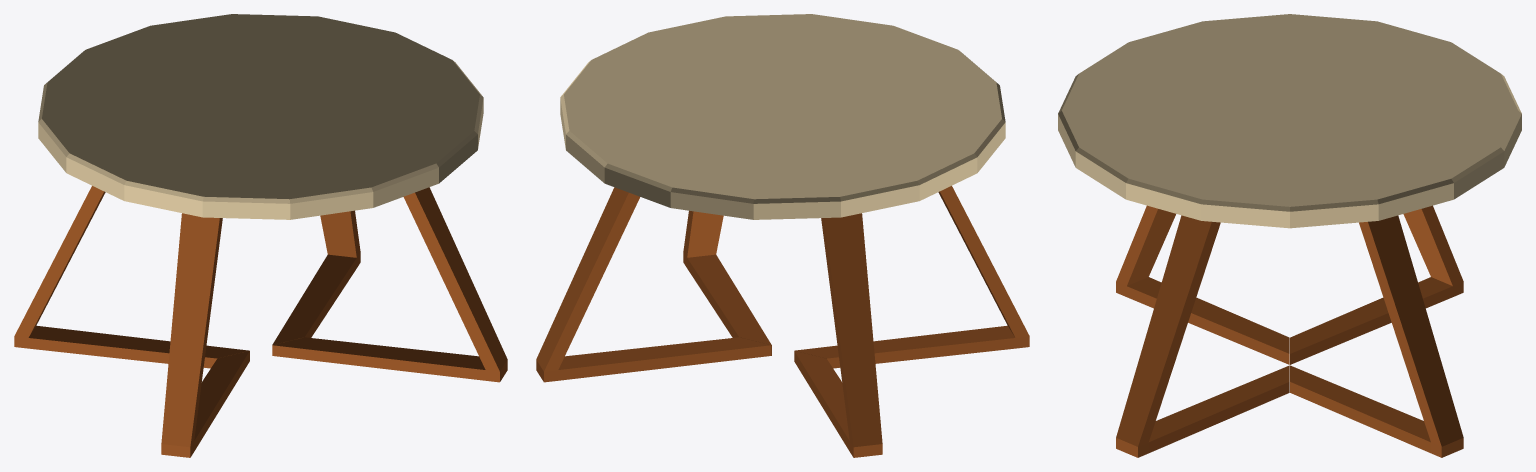
File: Coffee Table 2.fbx
The picture shows the model from 3 angles, left to right: view 1: azimuth 30°, elevation 25°; view 2: azimuth 150°, elevation 25°; view 3: azimuth 270°, elevation 25°; orthographic projection. The views are drawn at different scales.
Visible parts, largest first — view 1: Node 0; view 2: Node 0; view 3: Node 0.
Boxes of the visible parts, x1,y1,x2,y2 form: Node 0: (14, 14, 507, 457); Node 0: (536, 14, 1029, 457); Node 0: (1058, 14, 1521, 457).
Bounding box in the file's own units: 0.7304 × 0.4521 × 0.7304.
